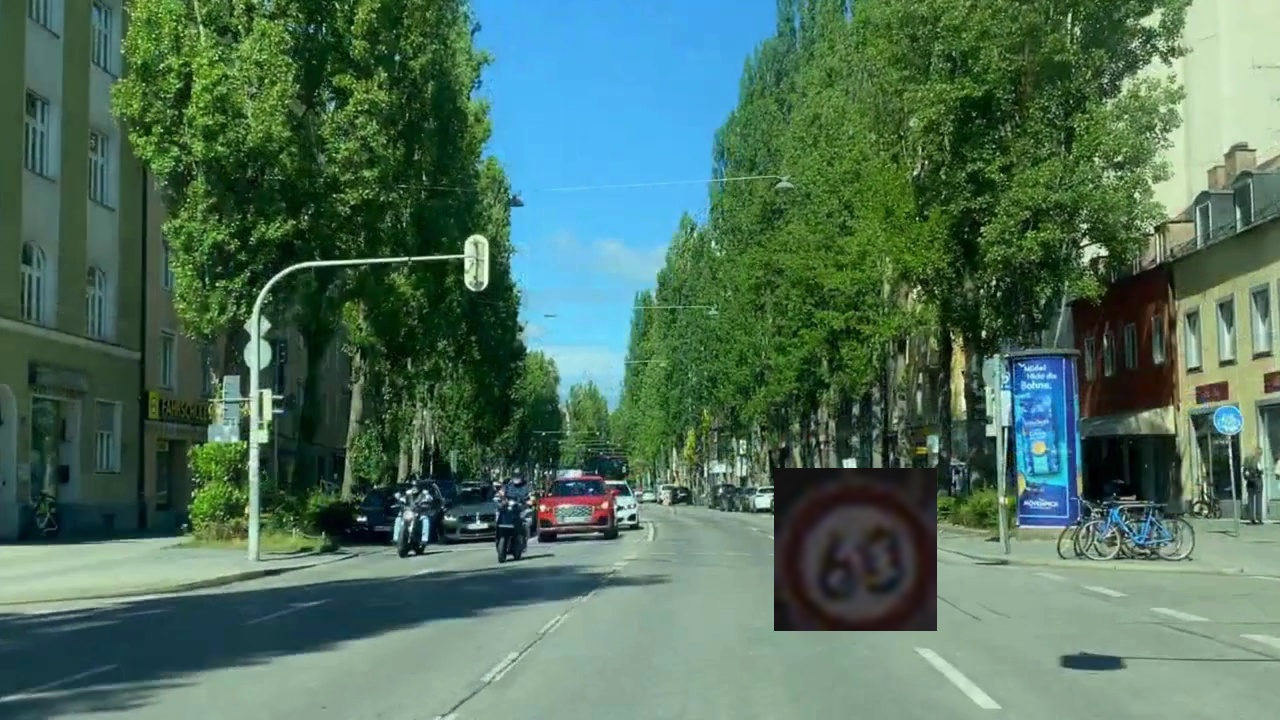Speed 60: (774, 468, 937, 631)
